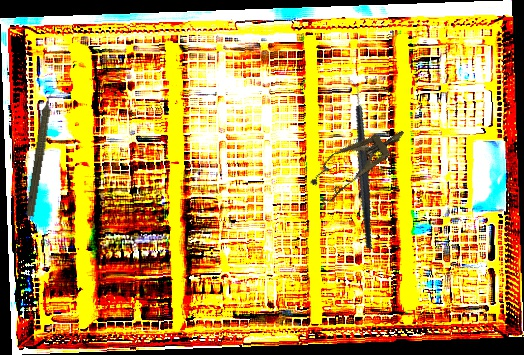Chopper: (303, 78, 416, 250)
Handpiece: (23, 85, 60, 218)
Speculum: (303, 115, 415, 207)
